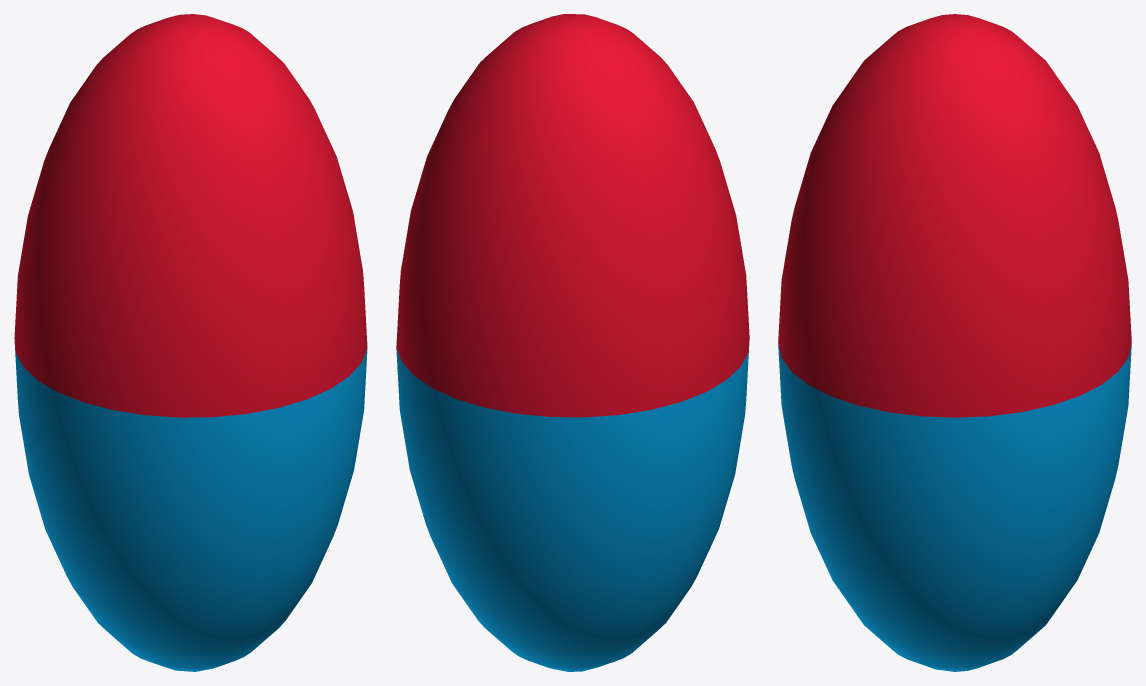
File: Sanity Pills.fbx
The picture shows the model from 3 angles, left to right: view 1: azimuth 30°, elevation 25°; view 2: azimuth 150°, elevation 25°; view 3: azimuth 270°, elevation 25°; orthographic projection.
Parts seen in each view (by area): view 1: Sphere; view 2: Sphere; view 3: Sphere.
Boxes of the visible parts, x1=… form: Sphere: x1=14, y1=14, x2=367, y2=671; Sphere: x1=396, y1=14, x2=749, y2=671; Sphere: x1=778, y1=14, x2=1131, y2=671.
Size of the model in its own units: 200 by 400 by 200.
